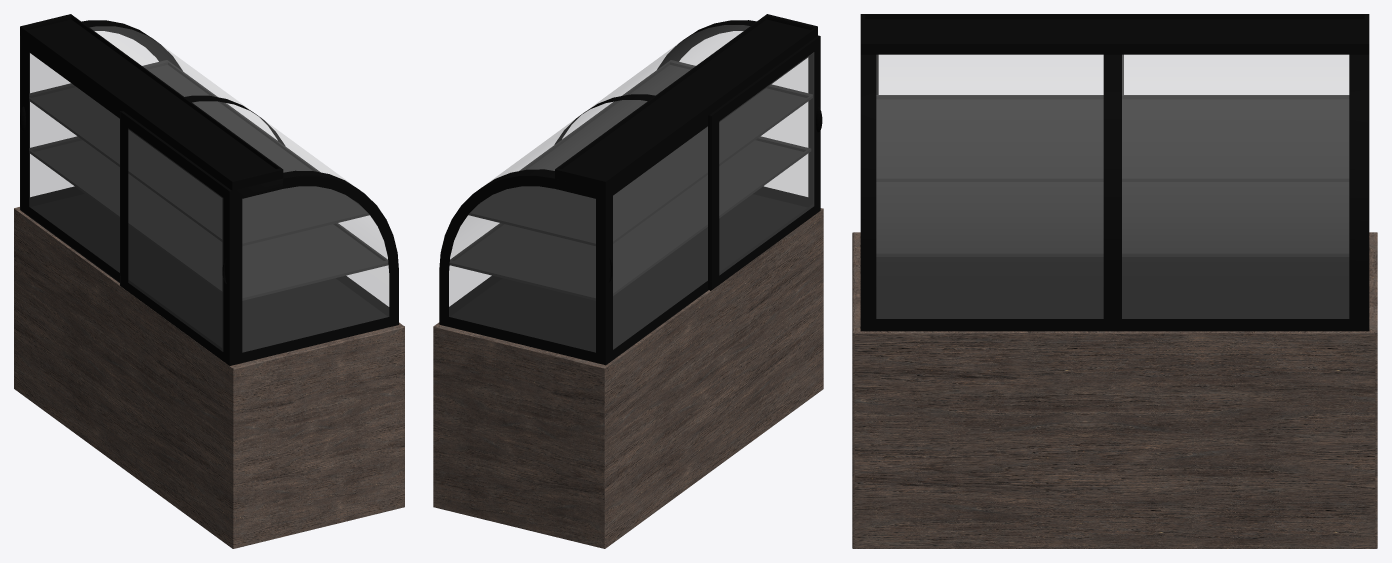
3 renders of one model, left to right at view 1: azimuth 30°, elevation 25°; view 2: azimuth 150°, elevation 25°; view 3: azimuth 270°, elevation 25°, orthographic. The views are drawn at different scales.
Visible parts, largest first — view 1: Cafe showcase_4, glass_1, black_0, plate.001_3; view 2: Cafe showcase_4, glass_1, black_0, plate.001_3; view 3: glass_1, Cafe showcase_4, plate.001_3, black_0.
Part boxes in pixels (left/top/right/bottom): Cafe showcase_4: left=14, top=207, right=404, bottom=548; glass_1: left=29, top=26, right=388, bottom=351; black_0: left=20, top=14, right=398, bottom=365; plate.001_3: left=29, top=60, right=388, bottom=300; Cafe showcase_4: left=433, top=208, right=823, bottom=548; glass_1: left=449, top=25, right=813, bottom=352; black_0: left=439, top=14, right=820, bottom=365; plate.001_3: left=449, top=60, right=812, bottom=300; glass_1: left=876, top=55, right=1348, bottom=318; Cafe showcase_4: left=852, top=232, right=1377, bottom=548; plate.001_3: left=876, top=95, right=1349, bottom=256; black_0: left=860, top=14, right=1369, bottom=331.
Size of the model in its own units: 1.15 by 2.28 by 2.48.
Materials: 7 (1 with a texture image).
